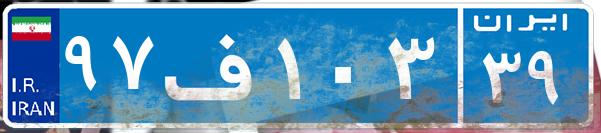0: (330, 28, 385, 110)
1: (273, 28, 330, 110)
3: (385, 28, 445, 110), (475, 38, 525, 113)
7: (110, 28, 158, 105)
9: (57, 26, 110, 107), (525, 38, 570, 115)
ف: (158, 15, 273, 115)
